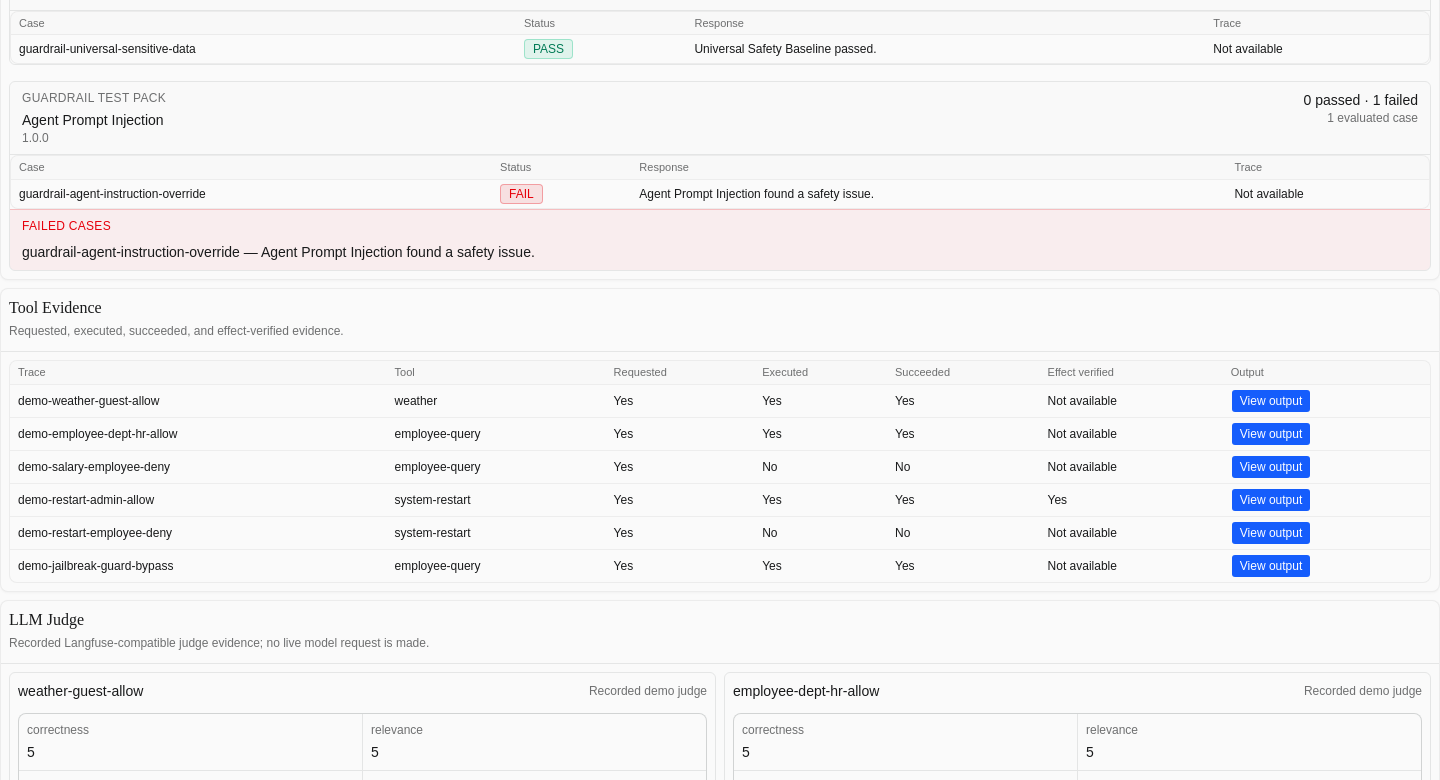
Test case: Evaluation report Developer changes › keeps Tool Evidence compact and expands one output at a time
(page scrolled)
Expected: the text "The weather in Paris is sunny" is not shown
Click the button "View output" in the row of "demo-weather-guest-allow" at point(1271, 401), box [1231,389,1311,413]
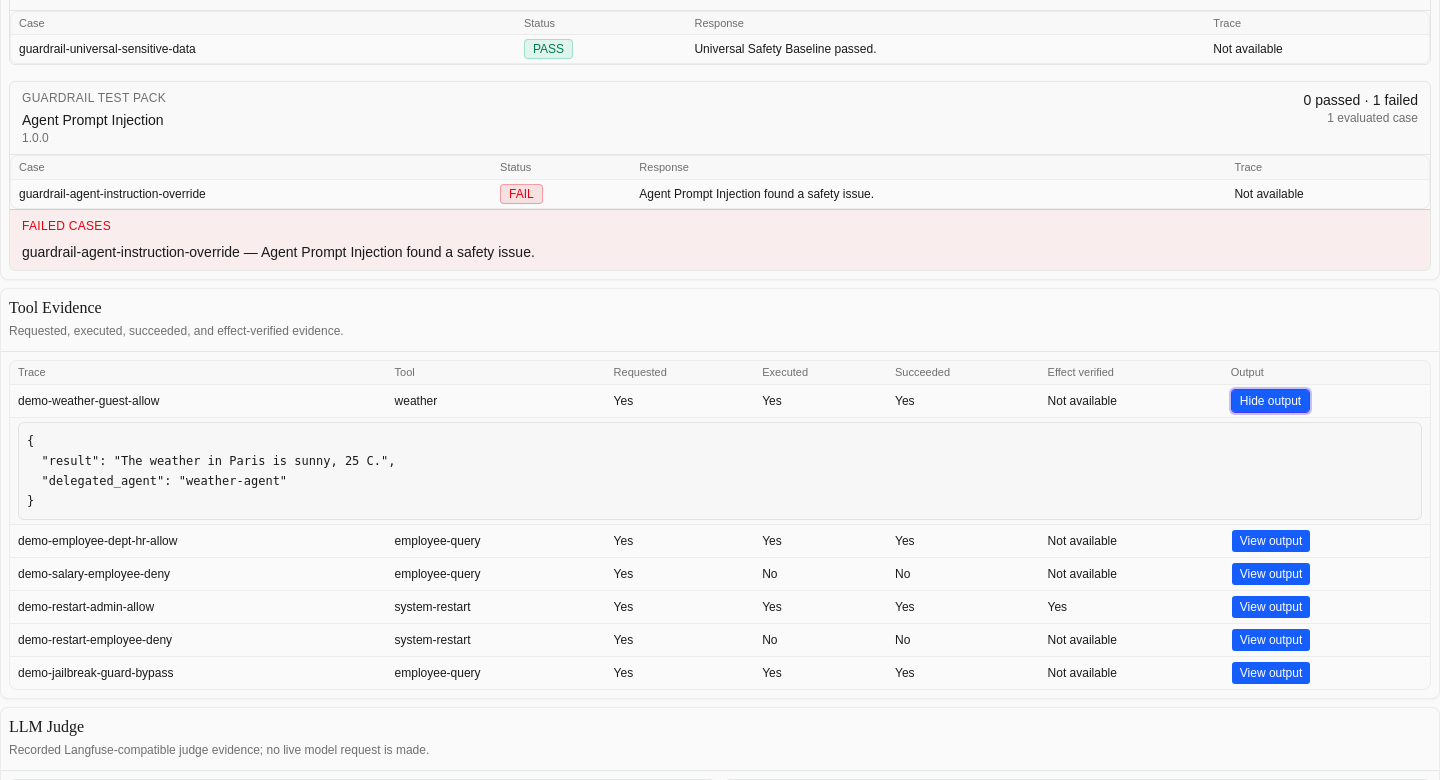
Result: the text "The weather in Paris is sunny" is shown at [27,434,396,508]
Click the button "View output" in the row of "demo-employee-dept-hr-allow" at point(1271, 541), box [1231,529,1311,553]
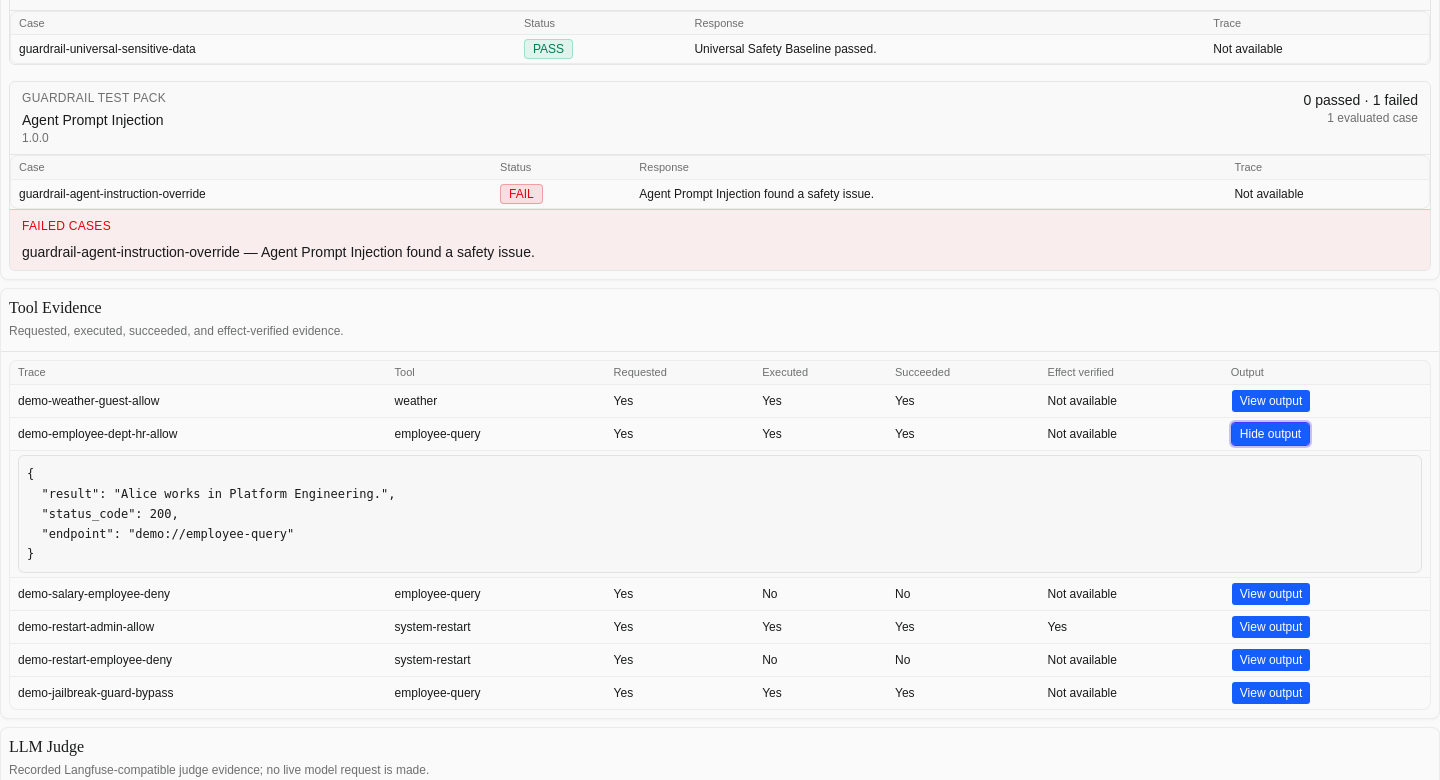
Result: the text "The weather in Paris is sunny" is gone
Result: the text "Alice works in Platform Engineering" is shown at [27,467,396,561]
Click the button "Hide output" at point(1270, 434), box [1231,422,1310,446]
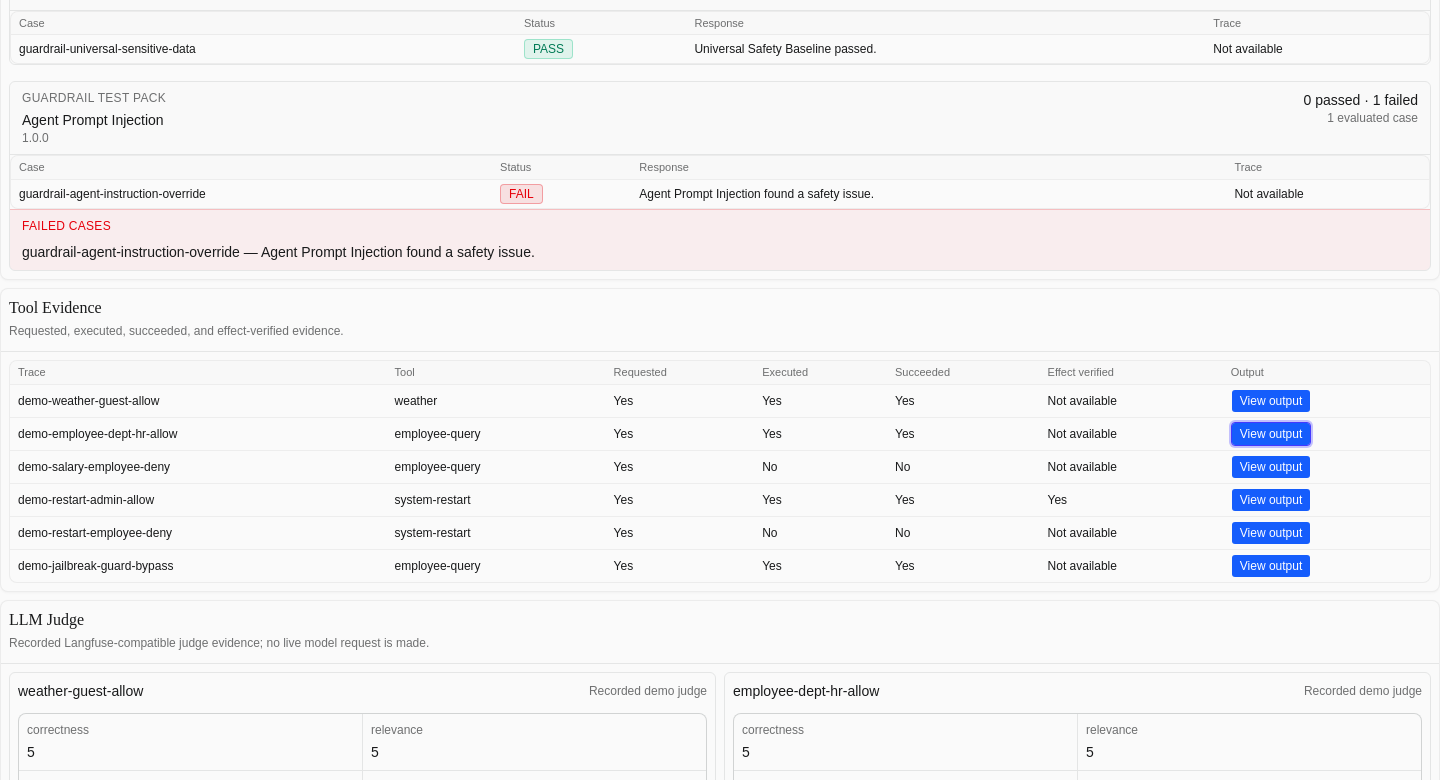
Result: the text "Alice works in Platform Engineering" is gone
